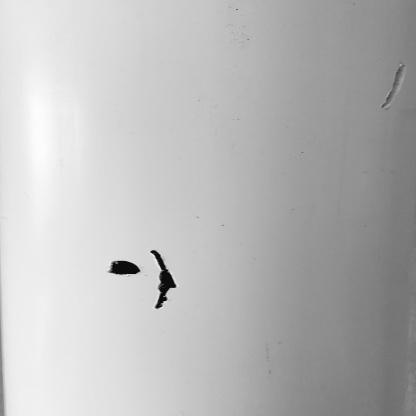kongdong: (149, 244, 179, 314), (101, 254, 143, 281)
sunshang: (381, 62, 412, 111)
